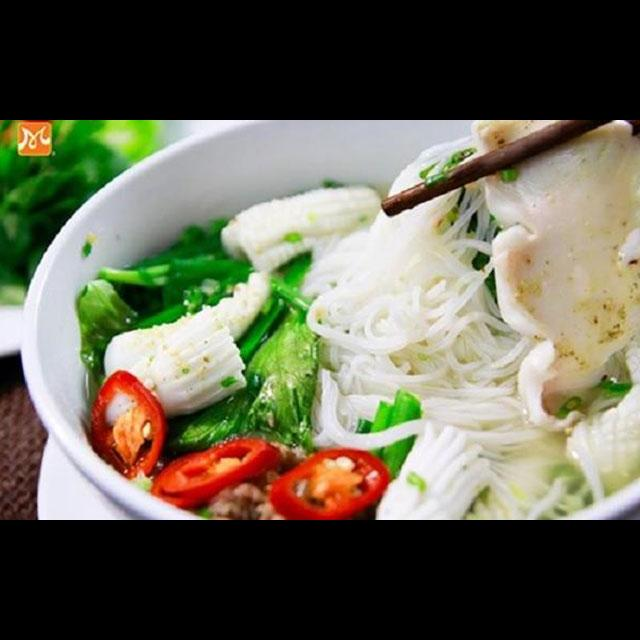banh hu tieu: (296, 131, 557, 456)
muc: (466, 121, 640, 445), (99, 265, 278, 430), (216, 175, 390, 274)
